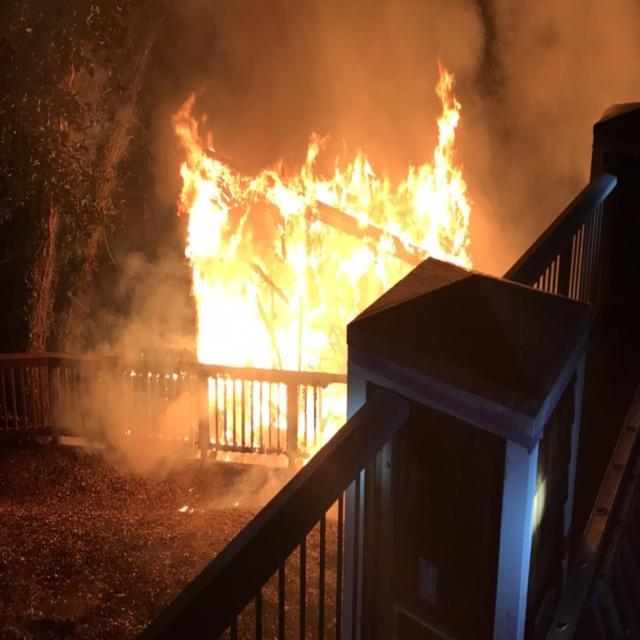Fire: (172, 97, 300, 366), (396, 54, 472, 270), (300, 130, 393, 302), (208, 378, 288, 450), (298, 298, 360, 372), (296, 383, 348, 456), (130, 369, 186, 382), (176, 503, 199, 514)
Smoke: (308, 0, 430, 148), (471, 0, 640, 101), (223, 2, 307, 159), (96, 377, 208, 472), (471, 104, 596, 188), (118, 254, 192, 366), (471, 192, 544, 247), (429, 0, 473, 56), (473, 248, 509, 272)
